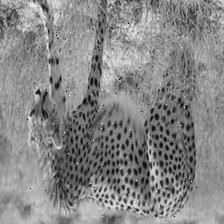Cheetha: (22, 9, 199, 217)
